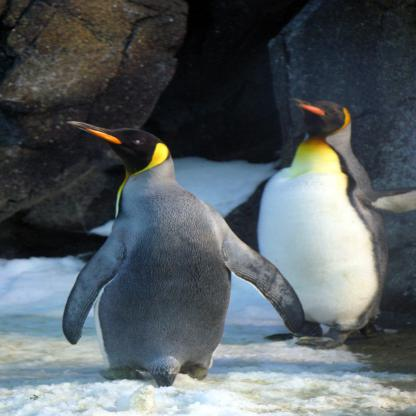Penguin: (40, 112, 312, 396), (224, 91, 415, 361)
